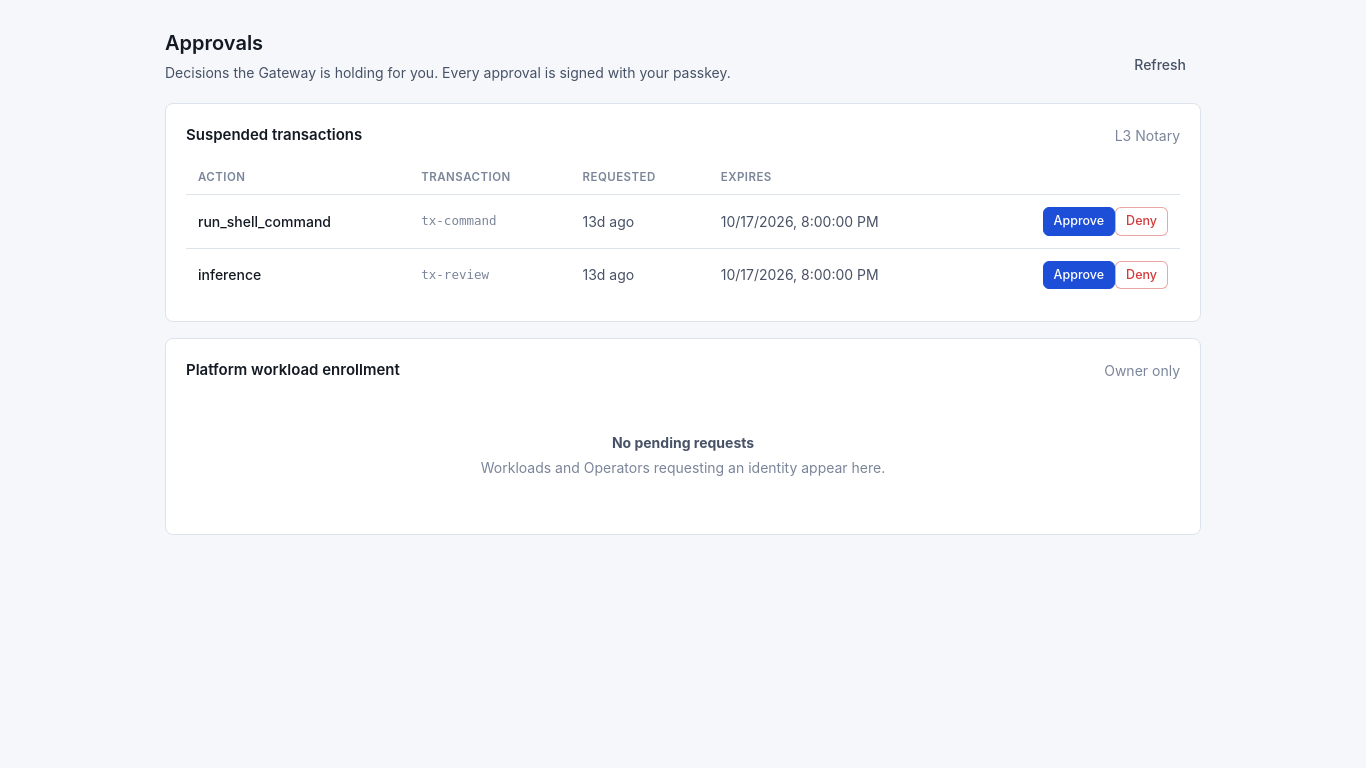
Test: ApprovalsView platform enrollment decisions › keeps other transactions approvable while a signed approval is still executing
The width and height of the screenshot is (1366, 768).
Click the button "Approve" in the row of "run_shell_command".
click(1079, 221)  # box [1043,207,1115,236]
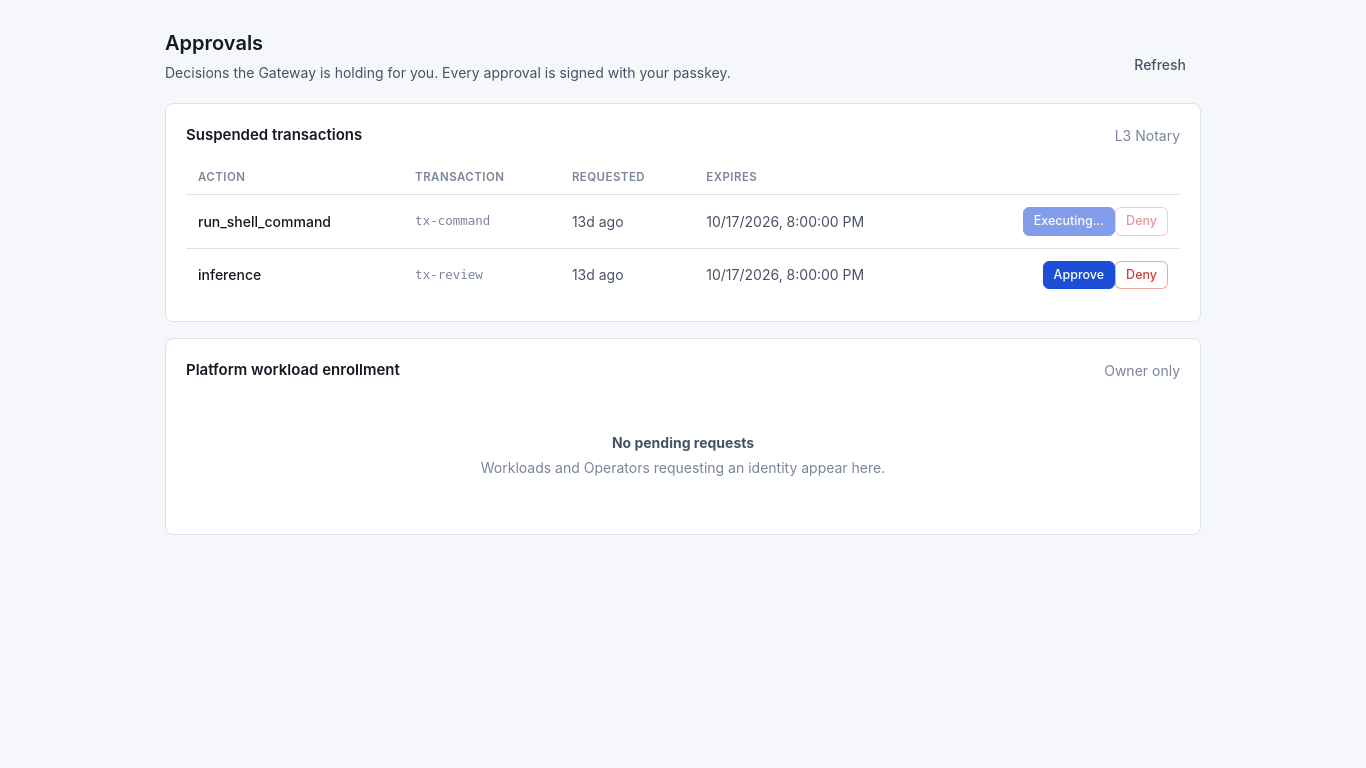
Now the button "Executing…" is disabled, box [1023,207,1115,236]
Click the button "Approve".
click(1079, 275)  # box [1043,260,1115,289]
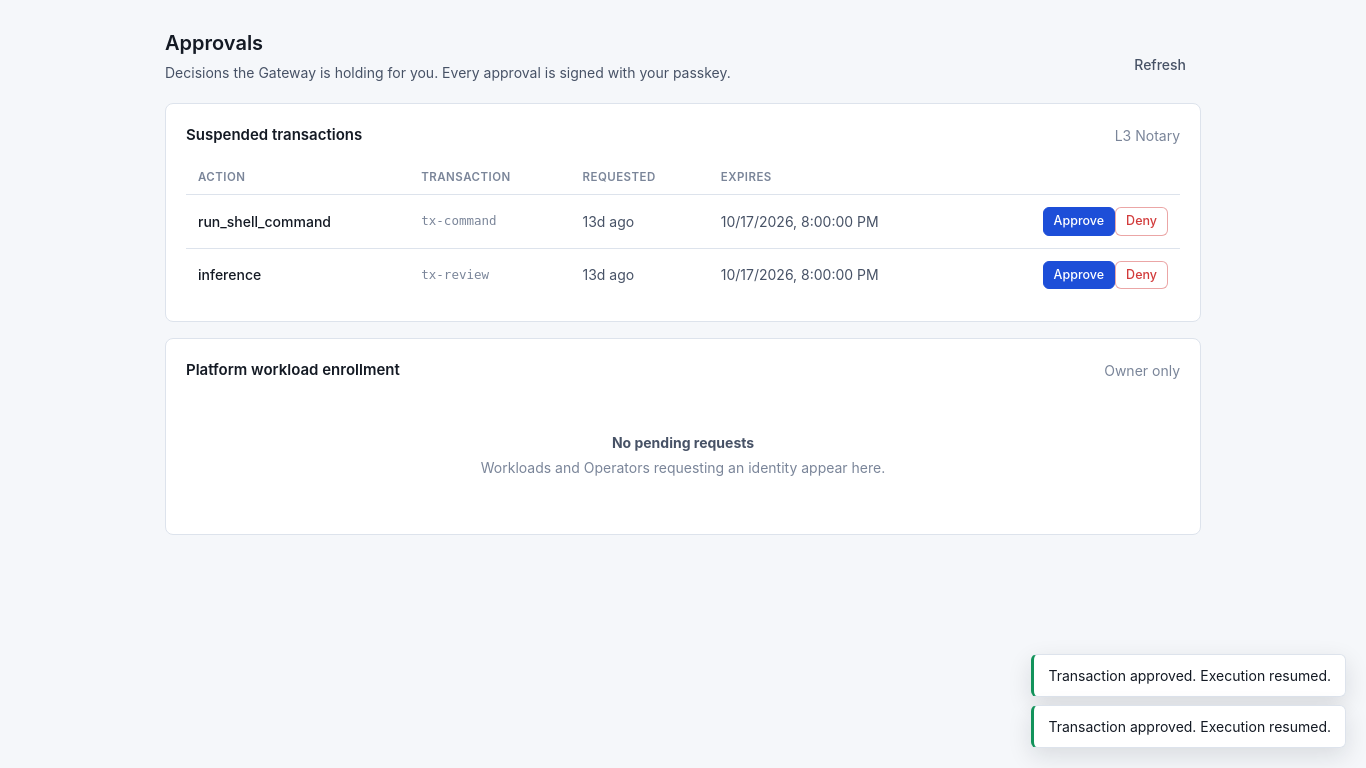
Now the text "Transaction approved. Execution resumed." is shown 2 times, box [1031,654,1346,697]; [1031,705,1346,748]
